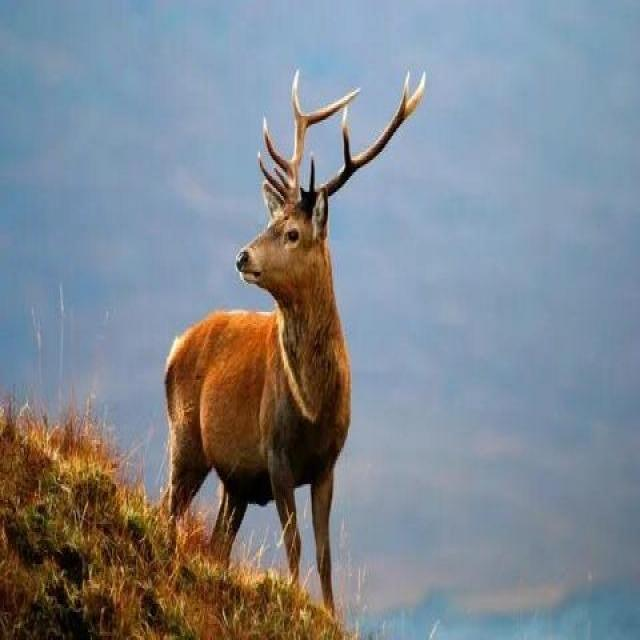deer: (145, 99, 417, 538)
